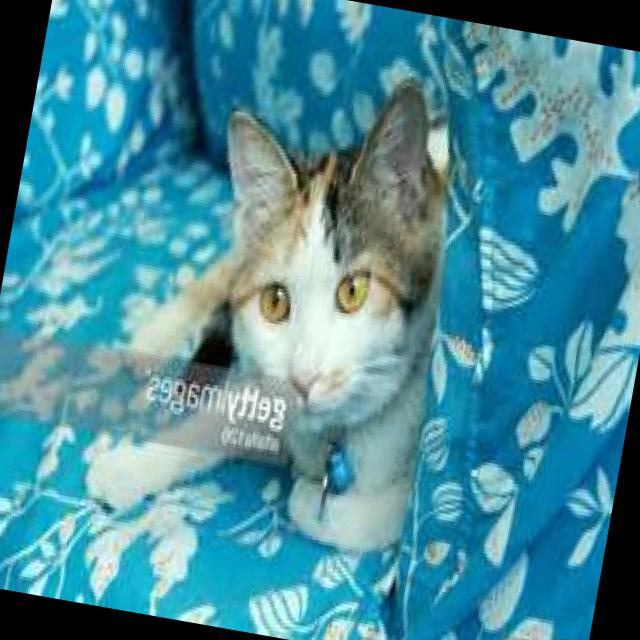cat: (78, 34, 484, 568)
